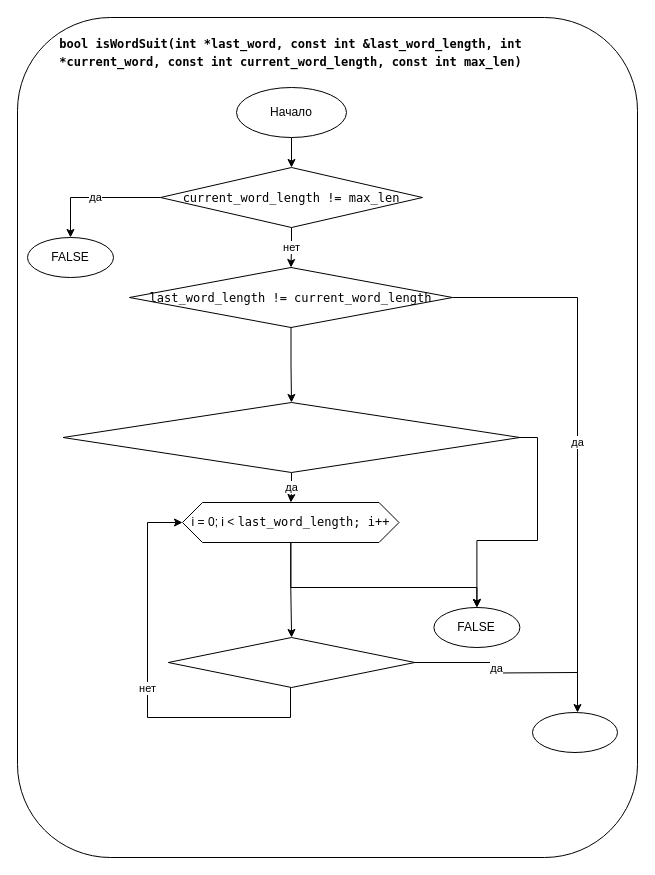
Image size: 655x875. Some labels were removed from this diagram. Here are the shapes that lost their labels. From the top down, the centre of each, then its label:
At point (291, 437): "if ( current_word_length == last_word_length && current_word_length == max_len )".
At point (291, 662): "last_word [i] != current_word [i]".
At point (575, 732): "TRUE".
